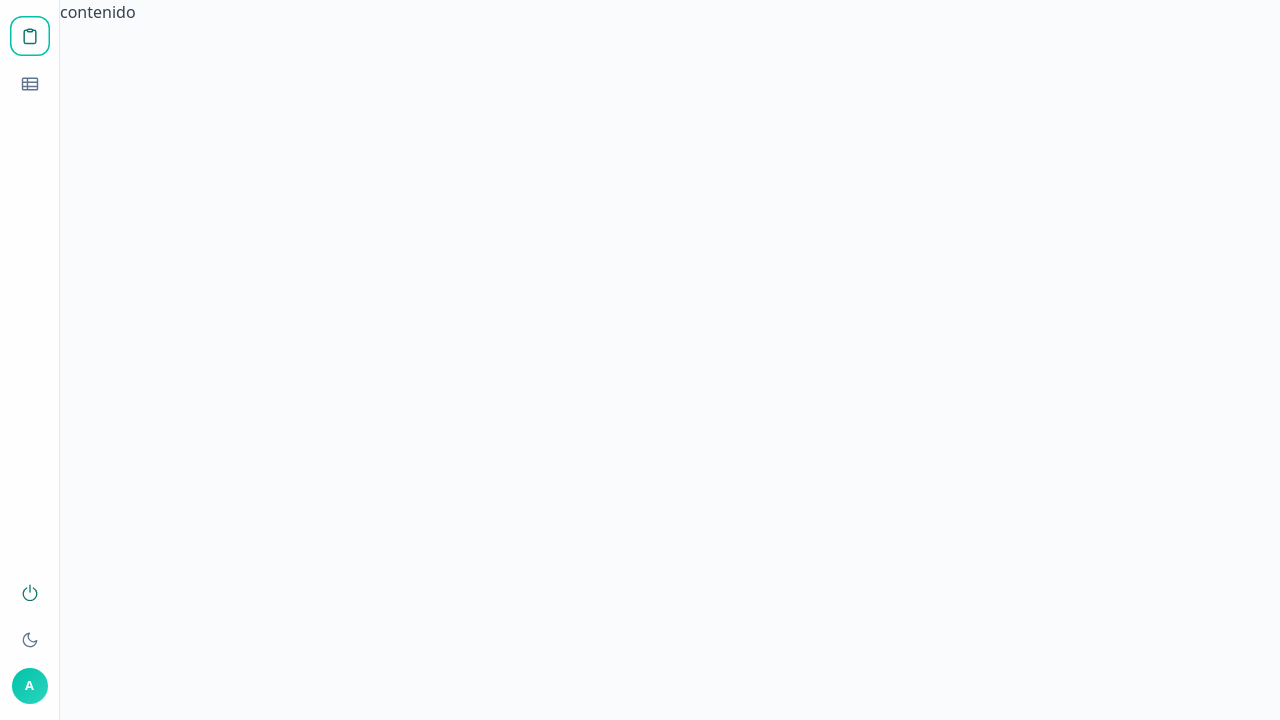
Test: El modal de 2FA escapa del riel › el modal se monta fuera del nav, colgando de <body>
The image size is (1280, 720).
Click the button named "abrir menú de usuario". click: (30, 686)
box: [12,668,48,704]
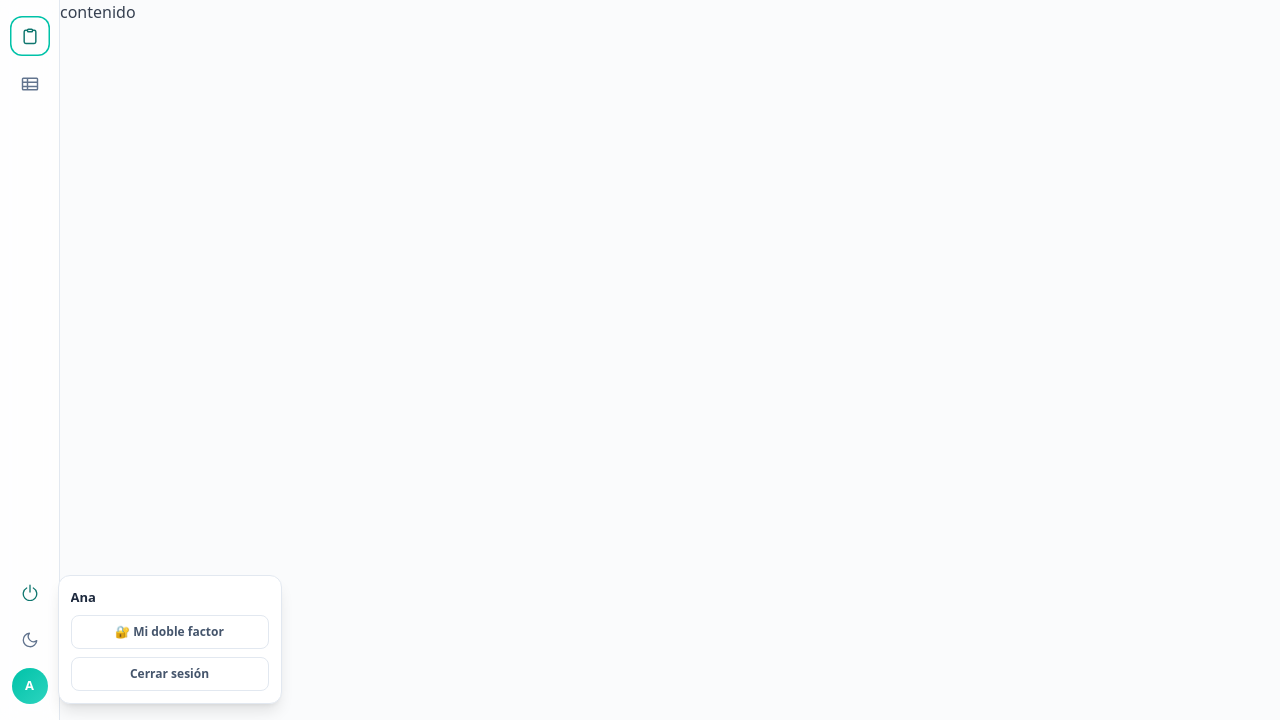
Click the button "🔐 Mi doble factor". click: (170, 632)
box: [70,615,268,649]
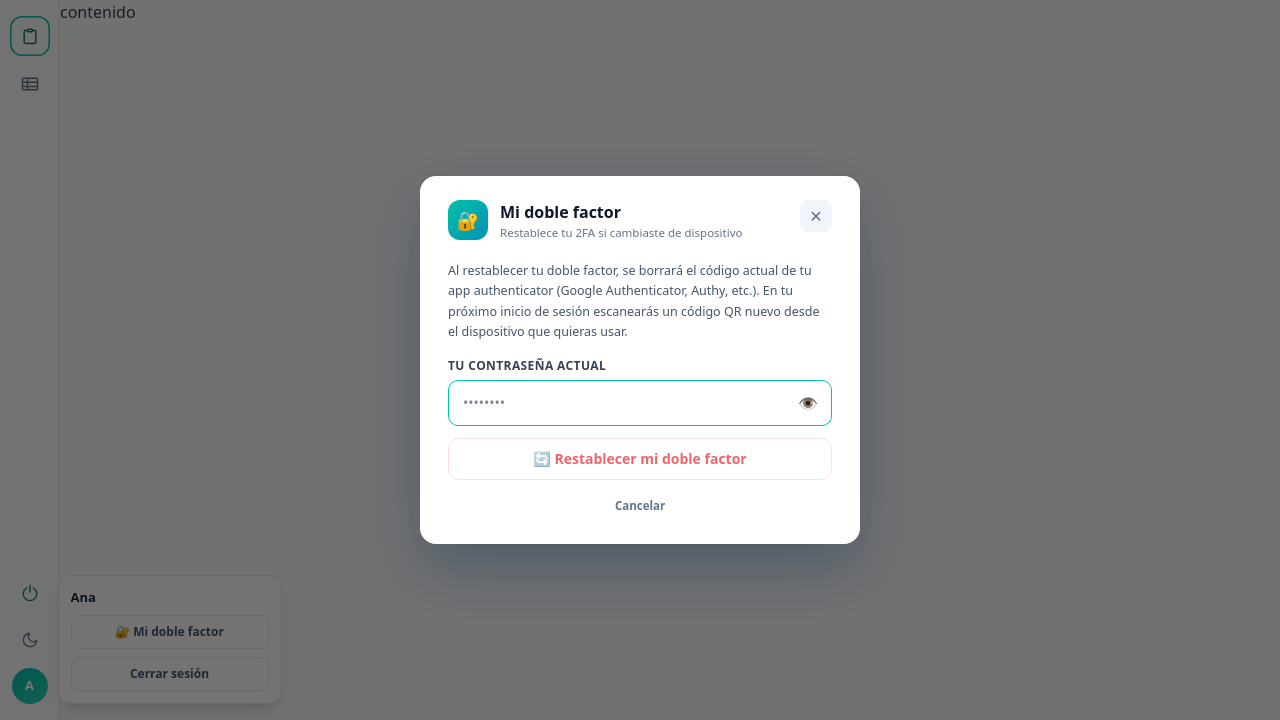
Check: the element with class "inset-0" is shown
